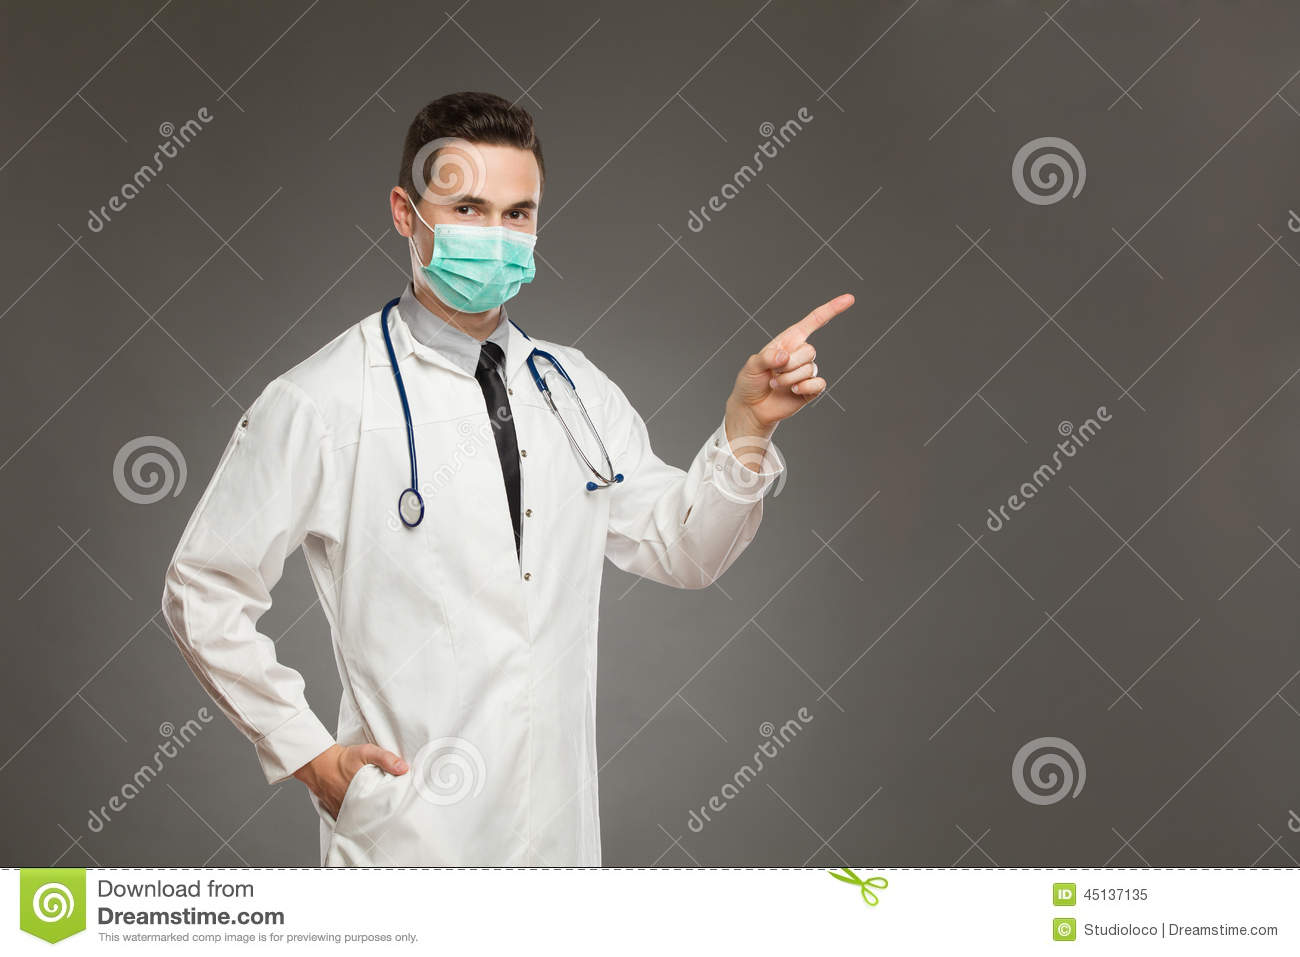mask: (413, 230, 556, 332)
